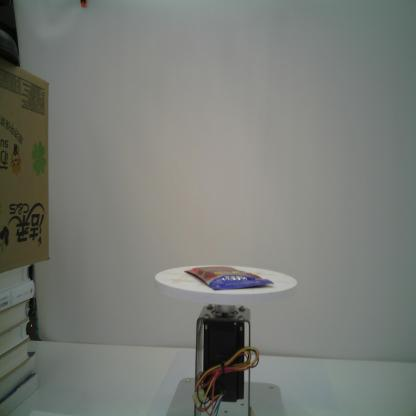Seasoner: (184, 266, 274, 290)
